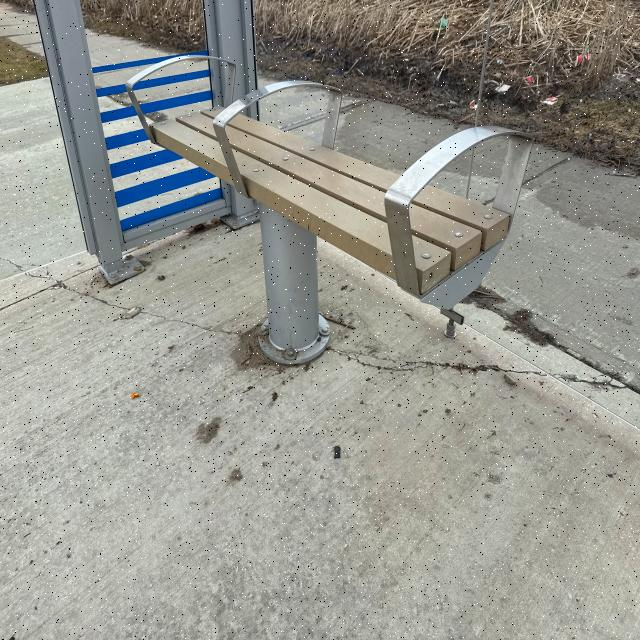Bench: (115, 37, 538, 376)
